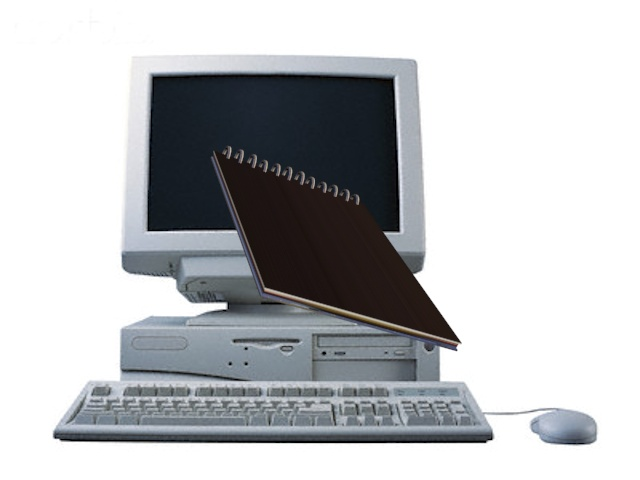paper_notebook: (208, 144, 465, 353)
